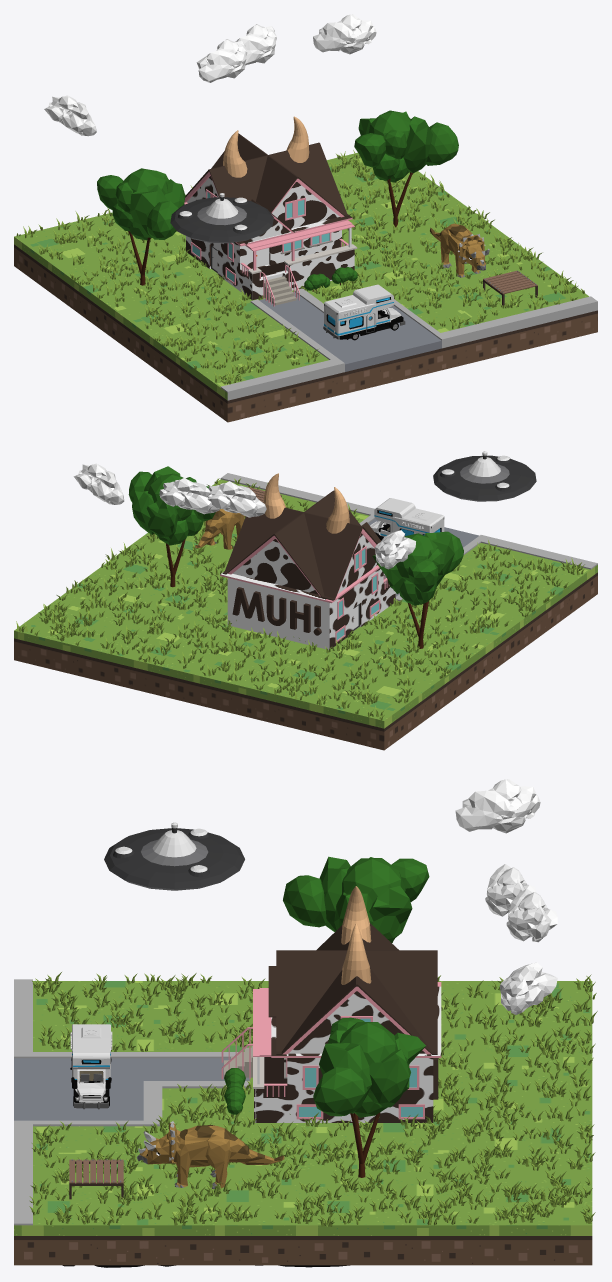
The picture shows the model from 3 angles, top to bottom: view 1: azimuth 30°, elevation 25°; view 2: azimuth 150°, elevation 25°; view 3: azimuth 270°, elevation 25°; orthographic projection. The views are drawn at different scales.
Parts seen in each view (by area): view 1: Cube.006, Cube.1242, Circle.012_Grass_0.192, Cube.007, tree, tree.001, OBJRANDOM_UFO, VEHICLES_CAMPER, ANIMAL_Triceratops, Cube.009; view 2: Cube.006, Cube.1242, Circle.012_Grass_0.192, Cube.007, tree.001, tree, OBJRANDOM_UFO, VEHICLES_CAMPER, ANIMAL_Triceratops; view 3: Cube.006, Circle.012_Grass_0.192, Cube.1242, tree, Cube.007, tree.001, OBJRANDOM_UFO, ANIMAL_Triceratops, VEHICLES_CAMPER, Cube.009.
Boxes of the visible parts, x1,y1,x2,y2 form: Cube.006: (14, 152, 597, 422); Cube.1242: (184, 116, 357, 306); Circle.012_Grass_0.192: (16, 150, 584, 384); Cube.007: (44, 14, 376, 136); tree: (354, 110, 458, 227); tree.001: (97, 168, 185, 285); OBJRANDOM_UFO: (170, 193, 273, 243); VEHICLES_CAMPER: (323, 284, 405, 340); ANIMAL_Triceratops: (430, 223, 489, 277); Cube.009: (483, 270, 537, 305); Cube.006: (14, 473, 597, 750); Cube.1242: (220, 473, 395, 649); Circle.012_Grass_0.192: (16, 478, 584, 720); Cube.007: (73, 463, 415, 569); tree.001: (372, 531, 463, 648); tree: (128, 466, 215, 587); OBJRANDOM_UFO: (433, 451, 536, 501); VEHICLES_CAMPER: (370, 498, 444, 540); ANIMAL_Triceratops: (195, 509, 245, 549); Cube.006: (14, 979, 592, 1265); Circle.012_Grass_0.192: (29, 972, 597, 1226); Cube.1242: (221, 886, 441, 1122); tree: (313, 1017, 425, 1177); Cube.007: (455, 779, 557, 1014); tree.001: (283, 856, 429, 942); OBJRANDOM_UFO: (104, 822, 244, 890); ANIMAL_Triceratops: (137, 1121, 284, 1189); VEHICLES_CAMPER: (70, 1024, 112, 1109); Cube.009: (69, 1159, 123, 1199).
Size of the model in its own units: 4071 by 2149 by 4040.
39 materials, 3 textured.
